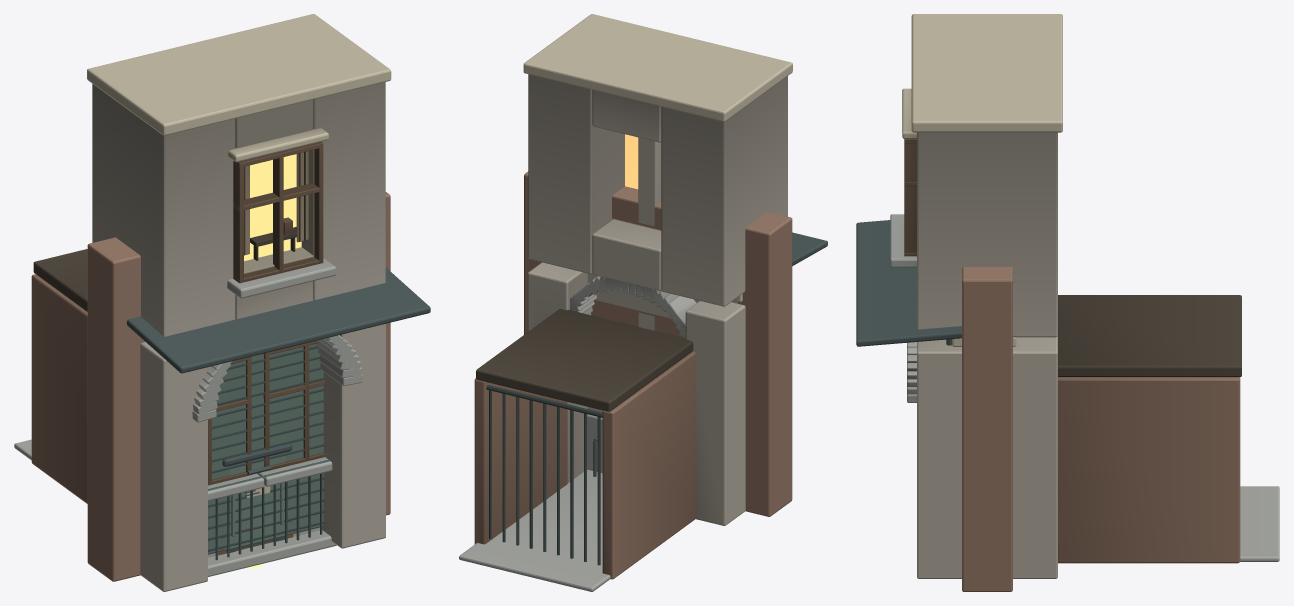
File: kallio-kit-v02.glb
3 views of the same model, side by side, from view 1: azimuth 30°, elevation 25°; view 2: azimuth 150°, elevation 25°; view 3: azimuth 270°, elevation 25° (orthographic). The views are drawn at different scales.
Parts seen in each view (by area): view 1: archway_plaster, archway_cream, service_bay_brick, service_bay_iron, archway_brick, service_bay_green, archway_wood, archway_stone, archway_room, facade_bay_wood, archway_window_lit, container_green (+6 smaller); view 2: archway_plaster, archway_brick, service_bay_brick, archway_cream, archway_room, archway_stone, archway_iron, facade_bay_plaster, facade_bay_window_lit, service_bay_iron, facade_bay_stone; view 3: archway_plaster, archway_brick, archway_cream, service_bay_brick, archway_room, service_bay_iron, archway_stone, archway_wood.
Boxes of the visible parts, bbox=[...] form: archway_plaster: bbox=[92, 82, 385, 591]; archway_cream: bbox=[87, 14, 391, 273]; service_bay_brick: bbox=[87, 192, 390, 581]; service_bay_iron: bbox=[127, 267, 430, 551]; archway_brick: bbox=[31, 274, 87, 503]; service_bay_green: bbox=[208, 344, 323, 554]; archway_wood: bbox=[233, 141, 323, 283]; archway_stone: bbox=[14, 258, 362, 460]; archway_room: bbox=[33, 151, 305, 311]; facade_bay_wood: bbox=[208, 341, 324, 483]; archway_window_lit: bbox=[244, 154, 301, 260]; container_green: bbox=[225, 455, 285, 551]; archway_plaster: bbox=[528, 74, 787, 525]; archway_brick: bbox=[474, 351, 695, 579]; service_bay_brick: bbox=[524, 171, 792, 516]; archway_cream: bbox=[523, 14, 792, 121]; archway_room: bbox=[476, 309, 693, 411]; archway_stone: bbox=[459, 276, 696, 591]; archway_iron: bbox=[486, 385, 602, 565]; facade_bay_plaster: bbox=[587, 137, 737, 412]; facade_bay_window_lit: bbox=[625, 134, 638, 189]; service_bay_iron: bbox=[792, 232, 827, 265]; facade_bay_stone: bbox=[587, 414, 602, 473]; archway_plaster: bbox=[917, 132, 1057, 578]; archway_brick: bbox=[1058, 377, 1240, 563]; archway_cream: bbox=[902, 14, 1062, 138]; service_bay_brick: bbox=[962, 267, 1012, 591]; archway_room: bbox=[1058, 295, 1241, 376]; service_bay_iron: bbox=[856, 220, 961, 346]; archway_stone: bbox=[890, 214, 1279, 561]; archway_wood: bbox=[904, 139, 916, 256].
Bounding box in the file's own units: 4 × 6.69 × 5.4.
